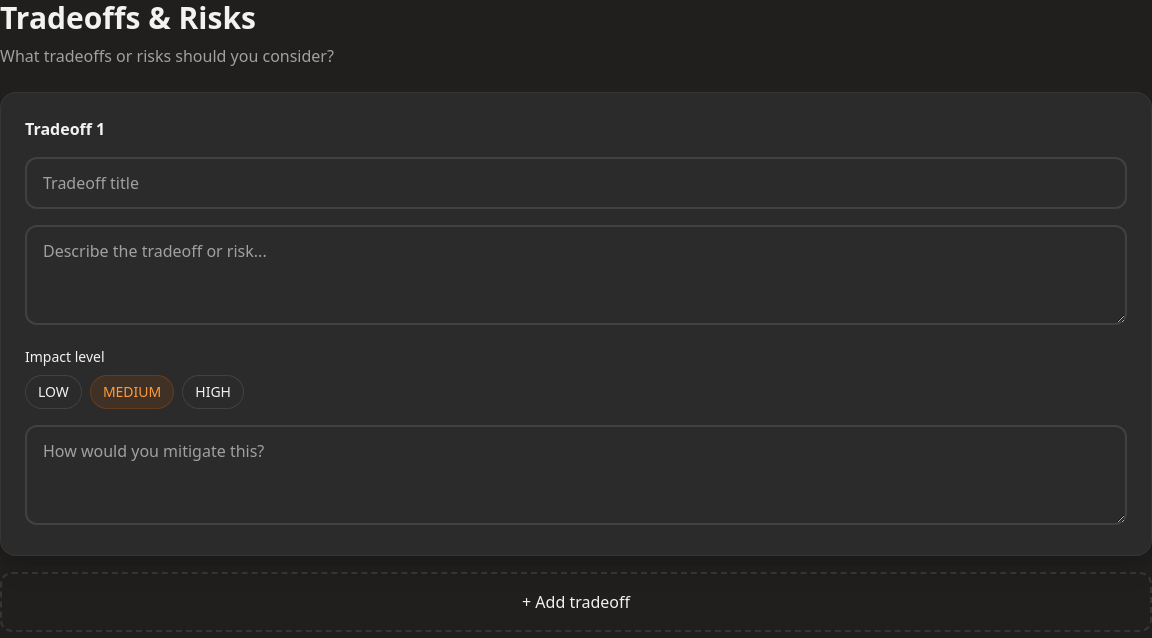
Scenario: Step7Tradeoffs › should allow removing tradeoffs
Add second tradeoff
Click the button "+ Add tradeoff": x=576, y=602 [0,572,1151,632]
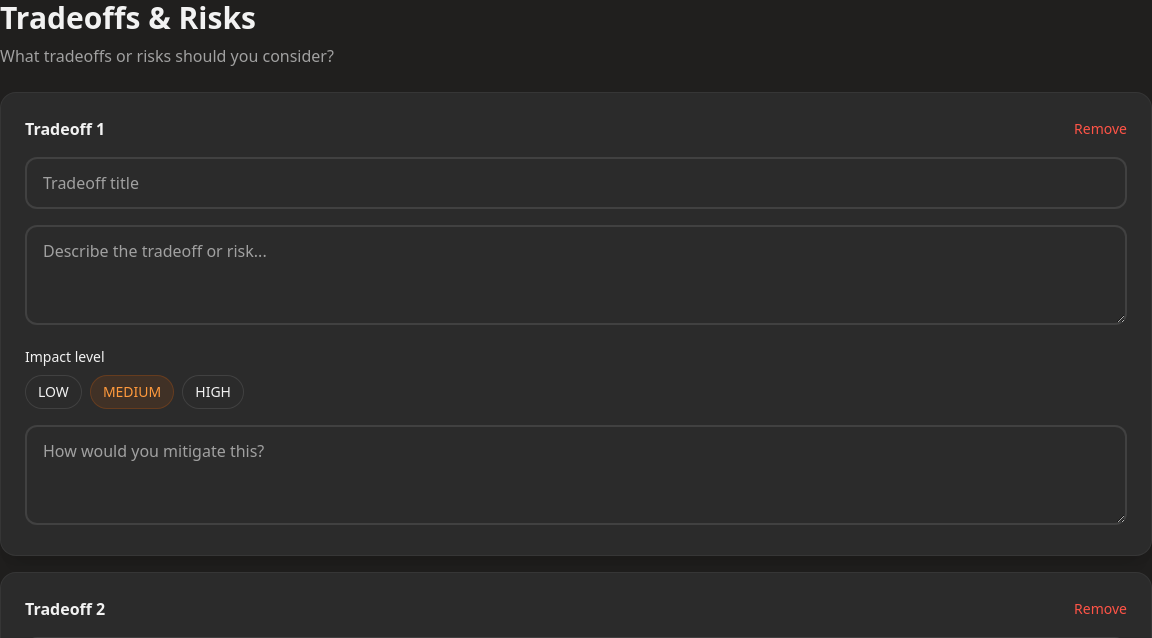
Expected: the heading "Tradeoff 2" is shown, [25,597,105,621]
Remove it
Click the 1st button "Remove": x=1101, y=129 [1074,119,1127,139]
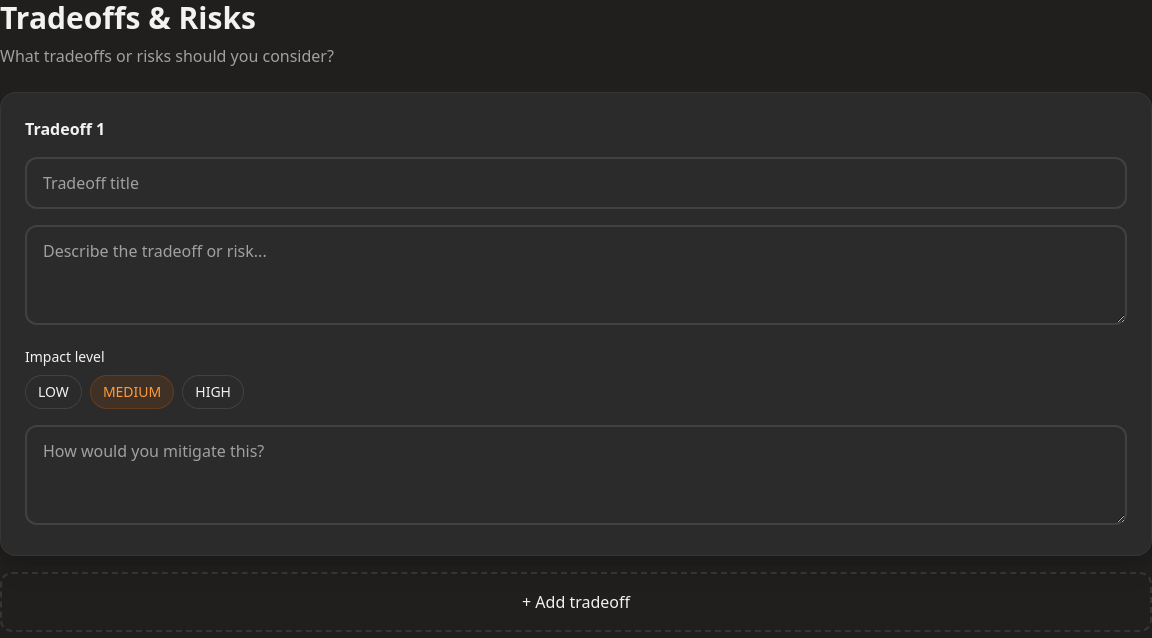
Expected: the heading "Tradeoff 2" is gone
